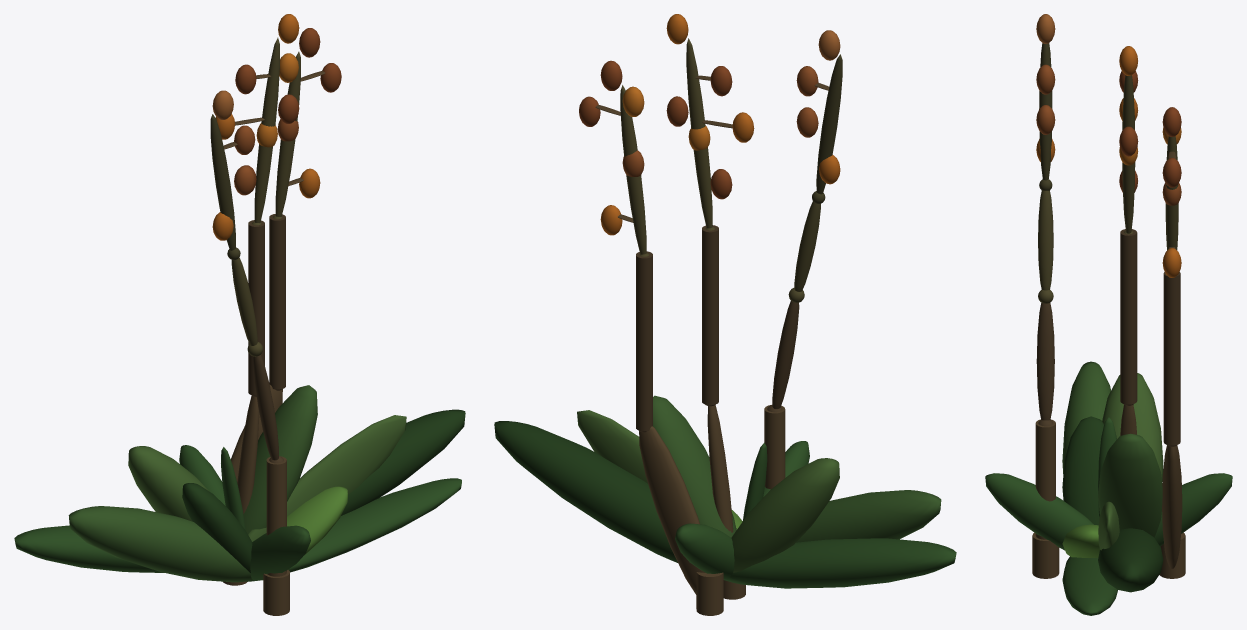
Rendered from CMU3DRMCBushe1.glb.
3 renders of one model, left to right at view 1: azimuth 30°, elevation 25°; view 2: azimuth 150°, elevation 25°; view 3: azimuth 270°, elevation 25°, orthographic. The views are drawn at different scales.
Visible parts, largest first — view 1: basal leaf 1, basal leaf 10, basal leaf 8, basal leaf 6, basal leaf 9, basal leaf 0, basal leaf 3, visible stem 2 section 1, basal leaf 4, inferred front back basal leaf 0, visible stem 1 section 1, basal leaf 7 (+11 smaller); view 2: basal leaf 9, basal leaf 0, basal leaf 3, basal leaf 1, visible stem 2 section 0, basal leaf 6, visible stem 1 section 1, visible stem 2 section 1, basal leaf 8, inferred front back basal leaf 1, visible stem 1 section 2, visible stem 1 section 0 (+8 smaller); view 3: basal leaf 6, inferred front back basal leaf 0, basal leaf 4, basal leaf 9, visible stem 1 section 1, visible stem 2 section 1, basal leaf 10, basal leaf 1, basal leaf 3, visible stem 2 section 0, inferred front back basal leaf 1, visible stem 0 section 1 (+19 smaller).
Part boxes in pixels (bbox=[...]): basal leaf 1: bbox=[68, 506, 252, 582]; basal leaf 10: bbox=[246, 478, 461, 581]; basal leaf 8: bbox=[248, 415, 406, 541]; basal leaf 6: bbox=[243, 385, 317, 534]; basal leaf 9: bbox=[341, 409, 465, 515]; basal leaf 0: bbox=[14, 525, 163, 572]; basal leaf 3: bbox=[128, 446, 209, 521]; visible stem 2 section 1: bbox=[269, 214, 285, 389]; basal leaf 4: bbox=[182, 483, 252, 572]; inferred front back basal leaf 0: bbox=[250, 525, 310, 580]; visible stem 1 section 1: bbox=[248, 220, 264, 395]; basal leaf 7: bbox=[287, 486, 347, 555]; basal leaf 9: bbox=[494, 421, 677, 562]; basal leaf 0: bbox=[723, 538, 956, 588]; basal leaf 3: bbox=[731, 458, 839, 572]; basal leaf 1: bbox=[796, 490, 941, 542]; visible stem 2 section 0: bbox=[639, 426, 705, 594]; basal leaf 6: bbox=[653, 395, 736, 537]; visible stem 1 section 1: bbox=[702, 225, 718, 405]; visible stem 2 section 1: bbox=[636, 251, 652, 431]; basal leaf 8: bbox=[577, 410, 736, 529]; inferred front back basal leaf 1: bbox=[675, 523, 734, 579]; visible stem 1 section 2: bbox=[686, 38, 712, 228]; visible stem 1 section 0: bbox=[707, 405, 733, 532]; basal leaf 6: bbox=[1098, 433, 1162, 537]; inferred front back basal leaf 0: bbox=[985, 473, 1093, 550]; basal leaf 4: bbox=[1062, 416, 1103, 525]; basal leaf 9: bbox=[1098, 528, 1163, 592]; visible stem 1 section 1: bbox=[1120, 229, 1137, 404]; visible stem 2 section 1: bbox=[1163, 272, 1180, 445]; basal leaf 10: bbox=[1062, 556, 1117, 615]; basal leaf 1: bbox=[1062, 361, 1110, 473]; basal leaf 3: bbox=[1102, 373, 1163, 482]; visible stem 2 section 0: bbox=[1162, 445, 1182, 568]; inferred front back basal leaf 1: bbox=[1154, 473, 1232, 546]; visible stem 0 section 1: bbox=[1036, 303, 1054, 420].
Size of the model in its own units: 0.6584 by 0.7723 by 0.3133.
